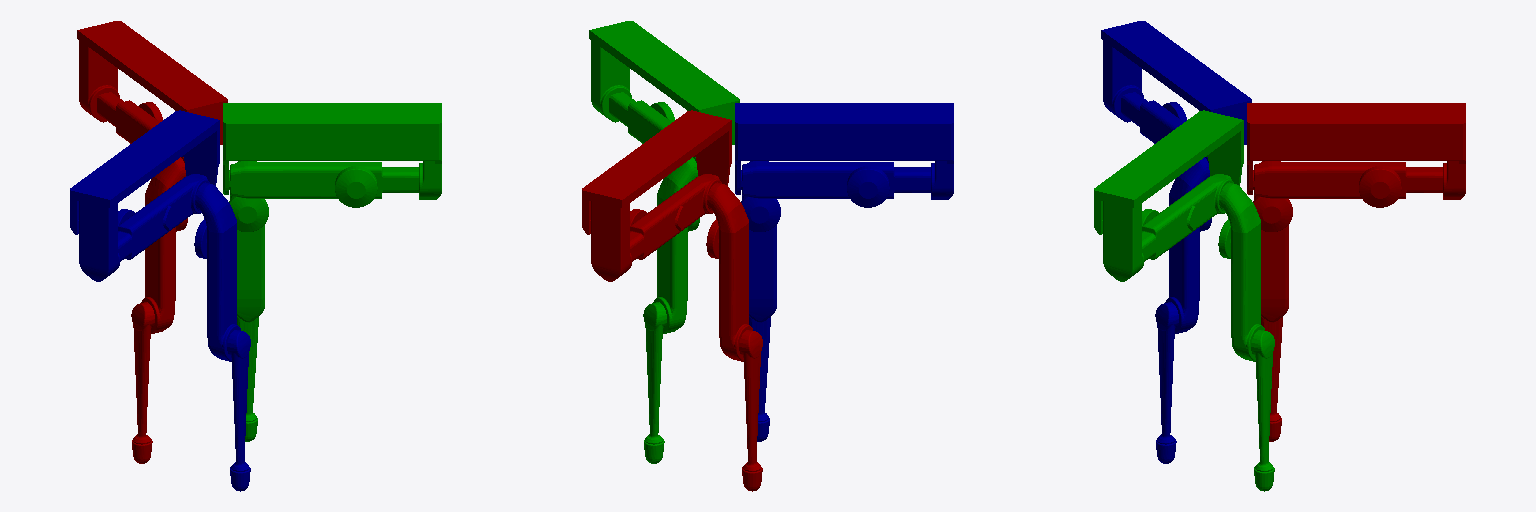
robot.urdf — trifingeredu:
<?xml version="1.0" ?>
<!-- =================================================================================== -->
<!-- |    This document was autogenerated by xacro from robot_properties_fingers/xacro/edu/trifingeredu.urdf.xacro | -->
<!-- |    EDITING THIS FILE BY HAND IS NOT RECOMMENDED                                 | -->
<!-- =================================================================================== -->
<robot name="trifingeredu">
  <!--
    Frames are defined such that they all align with the base frame when all
    joints are at position zero.

    In zero-configuration the origins of all joints are in one line.
    -->
  <!-- Define the global base_link and place all other objects relative to it. -->
  <link name="base_link">
    <inertial>
      <origin rpy="0 0 0" xyz="0 0 0"/>
      <mass value="1"/>
      <inertia ixx="4.166666666666667e-06" ixy="0" ixz="0" iyy="4.166666666666667e-06" iyz="0" izz="4.166666666666667e-06"/>
    </inertial>
  </link>
  <!-- Define the upper holder -->
  <link name="trifinger_base_link">
    <inertial>
      <origin rpy="0 0 0" xyz="0 0 0"/>
      <mass value="1"/>
      <inertia ixx="4.166666666666667e-06" ixy="0" ixz="0" iyy="4.166666666666667e-06" iyz="0" izz="4.166666666666667e-06"/>
    </inertial>
  </link>
  <joint name="base_to_trifinger_base_joint" type="fixed">
    <parent link="base_link"/>
    <child link="trifinger_base_link"/>
    <origin rpy="0 0 -1.5707963267948966" xyz="0 0 0.282"/>
  </joint>
  <material name="fingeredu_0_material">
    <color rgba="0.6 0.0 0.0 1.0"/>
  </material>
  <material name="fingeredu_120_material">
    <color rgba="0.0 0.6 0.0 1.0"/>
  </material>
  <material name="fingeredu_240_material">
    <color rgba="0.0 0.0 0.6 1.0"/>
  </material>
  <!--
        Fixed links for the finger base (parts where the upper link is mounted).
        -->
  <link name="finger_base_link_0">
    <visual>
      <origin rpy="0 0 0" xyz="-0.17995 0 0"/>
      <geometry>
        <mesh filename="meshes/base_back.obj" scale="1 1 1"/>
      </geometry>
      <material name="fingeredu_0_material"/>
    </visual>
    <collision>
      <origin rpy="0 0 0" xyz="-0.17995 0 0"/>
      <geometry>
        <mesh filename="meshes/base_back.obj" scale="1 1 1"/>
      </geometry>
    </collision>
    <visual>
      <origin rpy="0 0 0" xyz="0.025500000000000002 0 0"/>
      <geometry>
        <mesh filename="meshes/base_front.obj" scale="1 1 1"/>
      </geometry>
      <material name="fingeredu_0_material"/>
    </visual>
    <collision>
      <origin rpy="0 0 0" xyz="0.025500000000000002 0 0"/>
      <geometry>
        <mesh filename="meshes/base_front.obj" scale="1 1 1"/>
      </geometry>
    </collision>
    <visual>
      <origin rpy="0 0 0" xyz="0.025500000000000002 0.02 0.08"/>
      <geometry>
        <mesh filename="meshes/base_side_left.obj" scale="1 1 1"/>
      </geometry>
      <material name="fingeredu_0_material"/>
    </visual>
    <collision>
      <origin rpy="0 0 0" xyz="0.025500000000000002 0.02 0.08"/>
      <geometry>
        <mesh filename="meshes/base_side_left.obj" scale="1 1 1"/>
      </geometry>
    </collision>
    <!-- Disable this part.  It is not very relevant for collisions but
                 would cause trouble in pybullet due to its concavity.
            <xacro:add_geometry
                rpy="0 0 0"
                xyz="${offset_x_base_to_front} -0.02 ${offset_z_base_to_top}"
                mesh_file="${mesh_dir}/base_side_right.obj"
                material="${material}" />
            -->
    <visual>
      <origin rpy="0 0 0" xyz="0.025500000000000002 0 0.08"/>
      <geometry>
        <mesh filename="meshes/base_top.obj" scale="1 1 1"/>
      </geometry>
      <material name="fingeredu_0_material"/>
    </visual>
    <collision>
      <origin rpy="0 0 0" xyz="0.025500000000000002 0 0.08"/>
      <geometry>
        <mesh filename="meshes/base_top.obj" scale="1 1 1"/>
      </geometry>
    </collision>
    <inertial>
      <origin rpy="0 0 0" xyz="-0.1 0 0.4"/>
      <mass value="1"/>
      <inertia ixx="0.060833333333333336" ixy="0" ixz="0" iyy="0.05666666666666668" iyz="0" izz="0.010833333333333334"/>
    </inertial>
  </link>
  <!-- The movable links (upper, middle and lower) of the finger. -->
  <!-- FIXME inertias are not correct! -->
  <link name="finger_upper_link_0">
    <visual>
      <origin rpy="0 0 0" xyz="0.0195 0 0"/>
      <geometry>
        <mesh filename="meshes/upper_link.obj" scale="1 1 1"/>
      </geometry>
      <material name="fingeredu_0_material"/>
    </visual>
    <collision>
      <origin rpy="0 0 0" xyz="0.0195 0 0"/>
      <geometry>
        <mesh filename="meshes/upper_link.obj" scale="1 1 1"/>
      </geometry>
    </collision>
    <inertial>
      <!-- Note: This uses the values from the middle link, assuming
                     that it is similar enough. -->
      <!-- CoM is only estimated based -->
      <origin rpy="0 0 0" xyz="-0.079 0 0"/>
      <mass value="0.157"/>
      <inertia ixx="0.00003" ixy="0.00005" ixz="0.00000" iyy="0.00041" iyz="0.00000" izz="0.00041"/>
    </inertial>
  </link>
  <link name="finger_middle_link_0">
    <visual>
      <origin rpy="0 0 0" xyz="0 0 0"/>
      <geometry>
        <mesh filename="meshes/middle_link.obj" scale="1 1 1"/>
      </geometry>
      <material name="fingeredu_0_material"/>
    </visual>
    <collision>
      <origin rpy="0 0 0" xyz="0 0 0"/>
      <geometry>
        <mesh filename="meshes/middle_link.obj" scale="1 1 1"/>
      </geometry>
    </collision>
    <inertial>
      <origin rpy="0 0 0" xyz="0 -0.019 -0.079"/>
      <mass value="0.16"/>
      <inertia ixx="0.00041" ixy="0.00000" ixz="0.00000" iyy="0.00041" iyz="0.00005" izz="0.00003"/>
    </inertial>
  </link>
  <link name="finger_lower_link_0">
    <visual>
      <origin rpy="0 0 0" xyz="0 0 0"/>
      <geometry>
        <mesh filename="meshes/lower_link.obj" scale="1 1 1"/>
      </geometry>
      <material name="fingeredu_0_material"/>
    </visual>
    <collision>
      <origin rpy="0 0 0" xyz="0 0 0"/>
      <geometry>
        <mesh filename="meshes/lower_link.obj" scale="1 1 1"/>
      </geometry>
    </collision>
    <!-- TODO: these are the interial values from the Solo lower leg
                 link which is similar but not exactly the same to the FingerEdu
                 lower link. -->
    <inertial>
      <origin rpy="0 0 0" xyz="0 -0.009 -0.089"/>
      <mass value="0.035"/>
      <inertia ixx="0.00012" ixy="0.00000" ixz="0.00000" iyy="0.00012" iyz="0.00000" izz="0.00000"/>
    </inertial>
  </link>
  <!-- fixed link for finger tip -->
  <link name="finger_tip_link_0">
    <inertial>
      <origin rpy="0 0 0" xyz="0 0 0"/>
      <mass value="0.01"/>
      <inertia ixx="1.6666666666666668e-07" ixy="0" ixz="0" iyy="1.6666666666666668e-07" iyz="0" izz="1.6666666666666668e-07"/>
    </inertial>
  </link>
  <joint name="finger_lower_to_tip_joint_0" type="fixed">
    <parent link="finger_lower_link_0"/>
    <child link="finger_tip_link_0"/>
    <origin xyz="0 -0.008 -0.16"/>
  </joint>
  <!-- kinematics -->
  <joint name="finger_base_to_upper_joint_0" type="revolute">
    <parent link="finger_base_link_0"/>
    <child link="finger_upper_link_0"/>
    <limit effort="0.36" lower="-1.5707963267948966" upper="1.5707963267948966" velocity="20"/>
    <axis xyz="-1 0 0"/>
    <origin rpy="0 0 0" xyz="0 0 0"/>
  </joint>
  <joint name="finger_upper_to_middle_joint_0" type="revolute">
    <parent link="finger_upper_link_0"/>
    <child link="finger_middle_link_0"/>
    <limit effort="0.36" lower="-1.5707963267948966" upper="1.5707963267948966" velocity="20"/>
    <axis xyz="0 1 0"/>
    <origin rpy="0 0 0" xyz="0 -0.014 0"/>
  </joint>
  <joint name="finger_middle_to_lower_joint_0" type="revolute">
    <parent link="finger_middle_link_0"/>
    <child link="finger_lower_link_0"/>
    <limit effort="0.36" lower="-3.141592653589793" upper="3.141592653589793" velocity="20"/>
    <axis xyz="0 1 0"/>
    <origin rpy="0 0 0" xyz="0 -0.03745 -0.16"/>
  </joint>
  <!--
        Fixed links for the finger base (parts where the upper link is mounted).
        -->
  <link name="finger_base_link_120">
    <visual>
      <origin rpy="0 0 0" xyz="-0.17995 0 0"/>
      <geometry>
        <mesh filename="meshes/base_back.obj" scale="1 1 1"/>
      </geometry>
      <material name="fingeredu_120_material"/>
    </visual>
    <collision>
      <origin rpy="0 0 0" xyz="-0.17995 0 0"/>
      <geometry>
        <mesh filename="meshes/base_back.obj" scale="1 1 1"/>
      </geometry>
    </collision>
    <visual>
      <origin rpy="0 0 0" xyz="0.025500000000000002 0 0"/>
      <geometry>
        <mesh filename="meshes/base_front.obj" scale="1 1 1"/>
      </geometry>
      <material name="fingeredu_120_material"/>
    </visual>
    <collision>
      <origin rpy="0 0 0" xyz="0.025500000000000002 0 0"/>
      <geometry>
        <mesh filename="meshes/base_front.obj" scale="1 1 1"/>
      </geometry>
    </collision>
    <visual>
      <origin rpy="0 0 0" xyz="0.025500000000000002 0.02 0.08"/>
      <geometry>
        <mesh filename="meshes/base_side_left.obj" scale="1 1 1"/>
      </geometry>
      <material name="fingeredu_120_material"/>
    </visual>
    <collision>
      <origin rpy="0 0 0" xyz="0.025500000000000002 0.02 0.08"/>
      <geometry>
        <mesh filename="meshes/base_side_left.obj" scale="1 1 1"/>
      </geometry>
    </collision>
    <!-- Disable this part.  It is not very relevant for collisions but
                 would cause trouble in pybullet due to its concavity.
            <xacro:add_geometry
                rpy="0 0 0"
                xyz="${offset_x_base_to_front} -0.02 ${offset_z_base_to_top}"
                mesh_file="${mesh_dir}/base_side_right.obj"
                material="${material}" />
            -->
    <visual>
      <origin rpy="0 0 0" xyz="0.025500000000000002 0 0.08"/>
      <geometry>
        <mesh filename="meshes/base_top.obj" scale="1 1 1"/>
      </geometry>
      <material name="fingeredu_120_material"/>
    </visual>
    <collision>
      <origin rpy="0 0 0" xyz="0.025500000000000002 0 0.08"/>
      <geometry>
        <mesh filename="meshes/base_top.obj" scale="1 1 1"/>
      </geometry>
    </collision>
    <inertial>
      <origin rpy="0 0 0" xyz="-0.1 0 0.4"/>
      <mass value="1"/>
      <inertia ixx="0.060833333333333336" ixy="0" ixz="0" iyy="0.05666666666666668" iyz="0" izz="0.010833333333333334"/>
    </inertial>
  </link>
  <!-- The movable links (upper, middle and lower) of the finger. -->
  <!-- FIXME inertias are not correct! -->
  <link name="finger_upper_link_120">
    <visual>
      <origin rpy="0 0 0" xyz="0.0195 0 0"/>
      <geometry>
        <mesh filename="meshes/upper_link.obj" scale="1 1 1"/>
      </geometry>
      <material name="fingeredu_120_material"/>
    </visual>
    <collision>
      <origin rpy="0 0 0" xyz="0.0195 0 0"/>
      <geometry>
        <mesh filename="meshes/upper_link.obj" scale="1 1 1"/>
      </geometry>
    </collision>
    <inertial>
      <!-- Note: This uses the values from the middle link, assuming
                     that it is similar enough. -->
      <!-- CoM is only estimated based -->
      <origin rpy="0 0 0" xyz="-0.079 0 0"/>
      <mass value="0.157"/>
      <inertia ixx="0.00003" ixy="0.00005" ixz="0.00000" iyy="0.00041" iyz="0.00000" izz="0.00041"/>
    </inertial>
  </link>
  <link name="finger_middle_link_120">
    <visual>
      <origin rpy="0 0 0" xyz="0 0 0"/>
      <geometry>
        <mesh filename="meshes/middle_link.obj" scale="1 1 1"/>
      </geometry>
      <material name="fingeredu_120_material"/>
    </visual>
    <collision>
      <origin rpy="0 0 0" xyz="0 0 0"/>
      <geometry>
        <mesh filename="meshes/middle_link.obj" scale="1 1 1"/>
      </geometry>
    </collision>
    <inertial>
      <origin rpy="0 0 0" xyz="0 -0.019 -0.079"/>
      <mass value="0.16"/>
      <inertia ixx="0.00041" ixy="0.00000" ixz="0.00000" iyy="0.00041" iyz="0.00005" izz="0.00003"/>
    </inertial>
  </link>
  <link name="finger_lower_link_120">
    <visual>
      <origin rpy="0 0 0" xyz="0 0 0"/>
      <geometry>
        <mesh filename="meshes/lower_link.obj" scale="1 1 1"/>
      </geometry>
      <material name="fingeredu_120_material"/>
    </visual>
    <collision>
      <origin rpy="0 0 0" xyz="0 0 0"/>
      <geometry>
        <mesh filename="meshes/lower_link.obj" scale="1 1 1"/>
      </geometry>
    </collision>
    <!-- TODO: these are the interial values from the Solo lower leg
                 link which is similar but not exactly the same to the FingerEdu
                 lower link. -->
    <inertial>
      <origin rpy="0 0 0" xyz="0 -0.009 -0.089"/>
      <mass value="0.035"/>
      <inertia ixx="0.00012" ixy="0.00000" ixz="0.00000" iyy="0.00012" iyz="0.00000" izz="0.00000"/>
    </inertial>
  </link>
  <!-- fixed link for finger tip -->
  <link name="finger_tip_link_120">
    <inertial>
      <origin rpy="0 0 0" xyz="0 0 0"/>
      <mass value="0.01"/>
      <inertia ixx="1.6666666666666668e-07" ixy="0" ixz="0" iyy="1.6666666666666668e-07" iyz="0" izz="1.6666666666666668e-07"/>
    </inertial>
  </link>
  <joint name="finger_lower_to_tip_joint_120" type="fixed">
    <parent link="finger_lower_link_120"/>
    <child link="finger_tip_link_120"/>
    <origin xyz="0 -0.008 -0.16"/>
  </joint>
  <!-- kinematics -->
  <joint name="finger_base_to_upper_joint_120" type="revolute">
    <parent link="finger_base_link_120"/>
    <child link="finger_upper_link_120"/>
    <limit effort="0.36" lower="-1.5707963267948966" upper="1.5707963267948966" velocity="20"/>
    <axis xyz="-1 0 0"/>
    <origin rpy="0 0 0" xyz="0 0 0"/>
  </joint>
  <joint name="finger_upper_to_middle_joint_120" type="revolute">
    <parent link="finger_upper_link_120"/>
    <child link="finger_middle_link_120"/>
    <limit effort="0.36" lower="-1.5707963267948966" upper="1.5707963267948966" velocity="20"/>
    <axis xyz="0 1 0"/>
    <origin rpy="0 0 0" xyz="0 -0.014 0"/>
  </joint>
  <joint name="finger_middle_to_lower_joint_120" type="revolute">
    <parent link="finger_middle_link_120"/>
    <child link="finger_lower_link_120"/>
    <limit effort="0.36" lower="-3.141592653589793" upper="3.141592653589793" velocity="20"/>
    <axis xyz="0 1 0"/>
    <origin rpy="0 0 0" xyz="0 -0.03745 -0.16"/>
  </joint>
  <!--
        Fixed links for the finger base (parts where the upper link is mounted).
        -->
  <link name="finger_base_link_240">
    <visual>
      <origin rpy="0 0 0" xyz="-0.17995 0 0"/>
      <geometry>
        <mesh filename="meshes/base_back.obj" scale="1 1 1"/>
      </geometry>
      <material name="fingeredu_240_material"/>
    </visual>
    <collision>
      <origin rpy="0 0 0" xyz="-0.17995 0 0"/>
      <geometry>
        <mesh filename="meshes/base_back.obj" scale="1 1 1"/>
      </geometry>
    </collision>
    <visual>
      <origin rpy="0 0 0" xyz="0.025500000000000002 0 0"/>
      <geometry>
        <mesh filename="meshes/base_front.obj" scale="1 1 1"/>
      </geometry>
      <material name="fingeredu_240_material"/>
    </visual>
    <collision>
      <origin rpy="0 0 0" xyz="0.025500000000000002 0 0"/>
      <geometry>
        <mesh filename="meshes/base_front.obj" scale="1 1 1"/>
      </geometry>
    </collision>
    <visual>
      <origin rpy="0 0 0" xyz="0.025500000000000002 0.02 0.08"/>
      <geometry>
        <mesh filename="meshes/base_side_left.obj" scale="1 1 1"/>
      </geometry>
      <material name="fingeredu_240_material"/>
    </visual>
    <collision>
      <origin rpy="0 0 0" xyz="0.025500000000000002 0.02 0.08"/>
      <geometry>
        <mesh filename="meshes/base_side_left.obj" scale="1 1 1"/>
      </geometry>
    </collision>
    <!-- Disable this part.  It is not very relevant for collisions but
                 would cause trouble in pybullet due to its concavity.
            <xacro:add_geometry
                rpy="0 0 0"
                xyz="${offset_x_base_to_front} -0.02 ${offset_z_base_to_top}"
                mesh_file="${mesh_dir}/base_side_right.obj"
                material="${material}" />
            -->
    <visual>
      <origin rpy="0 0 0" xyz="0.025500000000000002 0 0.08"/>
      <geometry>
        <mesh filename="meshes/base_top.obj" scale="1 1 1"/>
      </geometry>
      <material name="fingeredu_240_material"/>
    </visual>
    <collision>
      <origin rpy="0 0 0" xyz="0.025500000000000002 0 0.08"/>
      <geometry>
        <mesh filename="meshes/base_top.obj" scale="1 1 1"/>
      </geometry>
    </collision>
    <inertial>
      <origin rpy="0 0 0" xyz="-0.1 0 0.4"/>
      <mass value="1"/>
      <inertia ixx="0.060833333333333336" ixy="0" ixz="0" iyy="0.05666666666666668" iyz="0" izz="0.010833333333333334"/>
    </inertial>
  </link>
  <!-- The movable links (upper, middle and lower) of the finger. -->
  <!-- FIXME inertias are not correct! -->
  <link name="finger_upper_link_240">
    <visual>
      <origin rpy="0 0 0" xyz="0.0195 0 0"/>
      <geometry>
        <mesh filename="meshes/upper_link.obj" scale="1 1 1"/>
      </geometry>
      <material name="fingeredu_240_material"/>
    </visual>
    <collision>
      <origin rpy="0 0 0" xyz="0.0195 0 0"/>
      <geometry>
        <mesh filename="meshes/upper_link.obj" scale="1 1 1"/>
      </geometry>
    </collision>
    <inertial>
      <!-- Note: This uses the values from the middle link, assuming
                     that it is similar enough. -->
      <!-- CoM is only estimated based -->
      <origin rpy="0 0 0" xyz="-0.079 0 0"/>
      <mass value="0.157"/>
      <inertia ixx="0.00003" ixy="0.00005" ixz="0.00000" iyy="0.00041" iyz="0.00000" izz="0.00041"/>
    </inertial>
  </link>
  <link name="finger_middle_link_240">
    <visual>
      <origin rpy="0 0 0" xyz="0 0 0"/>
      <geometry>
        <mesh filename="meshes/middle_link.obj" scale="1 1 1"/>
      </geometry>
      <material name="fingeredu_240_material"/>
    </visual>
    <collision>
      <origin rpy="0 0 0" xyz="0 0 0"/>
      <geometry>
        <mesh filename="meshes/middle_link.obj" scale="1 1 1"/>
      </geometry>
    </collision>
    <inertial>
      <origin rpy="0 0 0" xyz="0 -0.019 -0.079"/>
      <mass value="0.16"/>
      <inertia ixx="0.00041" ixy="0.00000" ixz="0.00000" iyy="0.00041" iyz="0.00005" izz="0.00003"/>
    </inertial>
  </link>
  <link name="finger_lower_link_240">
    <visual>
      <origin rpy="0 0 0" xyz="0 0 0"/>
      <geometry>
        <mesh filename="meshes/lower_link.obj" scale="1 1 1"/>
      </geometry>
      <material name="fingeredu_240_material"/>
    </visual>
    <collision>
      <origin rpy="0 0 0" xyz="0 0 0"/>
      <geometry>
        <mesh filename="meshes/lower_link.obj" scale="1 1 1"/>
      </geometry>
    </collision>
    <!-- TODO: these are the interial values from the Solo lower leg
                 link which is similar but not exactly the same to the FingerEdu
                 lower link. -->
    <inertial>
      <origin rpy="0 0 0" xyz="0 -0.009 -0.089"/>
      <mass value="0.035"/>
      <inertia ixx="0.00012" ixy="0.00000" ixz="0.00000" iyy="0.00012" iyz="0.00000" izz="0.00000"/>
    </inertial>
  </link>
  <!-- fixed link for finger tip -->
  <link name="finger_tip_link_240">
    <inertial>
      <origin rpy="0 0 0" xyz="0 0 0"/>
      <mass value="0.01"/>
      <inertia ixx="1.6666666666666668e-07" ixy="0" ixz="0" iyy="1.6666666666666668e-07" iyz="0" izz="1.6666666666666668e-07"/>
    </inertial>
  </link>
  <joint name="finger_lower_to_tip_joint_240" type="fixed">
    <parent link="finger_lower_link_240"/>
    <child link="finger_tip_link_240"/>
    <origin xyz="0 -0.008 -0.16"/>
  </joint>
  <!-- kinematics -->
  <joint name="finger_base_to_upper_joint_240" type="revolute">
    <parent link="finger_base_link_240"/>
    <child link="finger_upper_link_240"/>
    <limit effort="0.36" lower="-1.5707963267948966" upper="1.5707963267948966" velocity="20"/>
    <axis xyz="-1 0 0"/>
    <origin rpy="0 0 0" xyz="0 0 0"/>
  </joint>
  <joint name="finger_upper_to_middle_joint_240" type="revolute">
    <parent link="finger_upper_link_240"/>
    <child link="finger_middle_link_240"/>
    <limit effort="0.36" lower="-1.5707963267948966" upper="1.5707963267948966" velocity="20"/>
    <axis xyz="0 1 0"/>
    <origin rpy="0 0 0" xyz="0 -0.014 0"/>
  </joint>
  <joint name="finger_middle_to_lower_joint_240" type="revolute">
    <parent link="finger_middle_link_240"/>
    <child link="finger_lower_link_240"/>
    <limit effort="0.36" lower="-3.141592653589793" upper="3.141592653589793" velocity="20"/>
    <axis xyz="0 1 0"/>
    <origin rpy="0 0 0" xyz="0 -0.03745 -0.16"/>
  </joint>
  <joint name="base_to_finger_0" type="fixed">
    <parent link="trifinger_base_link"/>
    <child link="finger_base_link_0"/>
    <origin rpy="0 0 0" xyz="-0.0395 0.0 0"/>
  </joint>
  <joint name="base_to_finger_120" type="fixed">
    <parent link="trifinger_base_link"/>
    <child link="finger_base_link_120"/>
    <origin rpy="0 0 -2.0943951023931953" xyz="0.01975 0.034208 0"/>
  </joint>
  <joint name="base_to_finger_240" type="fixed">
    <parent link="trifinger_base_link"/>
    <child link="finger_base_link_240"/>
    <origin rpy="0 0 -4.1887902047863905" xyz="0.01975 -0.034208 0"/>
  </joint>

  <transmission name="finger_base_to_upper_joint_0_trans" type="SimpleTransmission">
    <actuator name="finger_base_to_upper_joint_0_torque"/>
    <joint name="finger_base_to_upper_joint_0"/>
    <mechanicalReduction>1</mechanicalReduction>
  </transmission>
  <transmission name="finger_upper_to_middle_joint_0_trans" type="SimpleTransmission">
    <actuator name="finger_upper_to_middle_joint_0_torque"/>
    <joint name="finger_upper_to_middle_joint_0"/>
    <mechanicalReduction>1</mechanicalReduction>
  </transmission>
  <transmission name="finger_middle_to_lower_joint_0_trans" type="SimpleTransmission">
    <actuator name="finger_middle_to_lower_joint_0_torque"/>
    <joint name="finger_middle_to_lower_joint_0"/>
    <mechanicalReduction>1</mechanicalReduction>
  </transmission>

  <transmission name="finger_base_to_upper_joint_120_trans" type="SimpleTransmission">
    <actuator name="finger_base_to_upper_joint_120_torque"/>
    <joint name="finger_base_to_upper_joint_120"/>
    <mechanicalReduction>1</mechanicalReduction>
  </transmission>
  <transmission name="finger_upper_to_middle_joint_120_trans" type="SimpleTransmission">
    <actuator name="finger_upper_to_middle_joint_120_torque"/>
    <joint name="finger_upper_to_middle_joint_120"/>
    <mechanicalReduction>1</mechanicalReduction>
  </transmission>
  <transmission name="finger_middle_to_lower_joint_120_trans" type="SimpleTransmission">
    <actuator name="finger_middle_to_lower_joint_120_torque"/>
    <joint name="finger_middle_to_lower_joint_120"/>
    <mechanicalReduction>1</mechanicalReduction>
  </transmission>

  <transmission name="finger_base_to_upper_joint_240_trans" type="SimpleTransmission">
    <actuator name="finger_base_to_upper_joint_240_torque"/>
    <joint name="finger_base_to_upper_joint_240"/>
    <mechanicalReduction>1</mechanicalReduction>
  </transmission>
  <transmission name="finger_upper_to_middle_joint_240_trans" type="SimpleTransmission">
    <actuator name="finger_upper_to_middle_joint_240_torque"/>
    <joint name="finger_upper_to_middle_joint_240"/>
    <mechanicalReduction>1</mechanicalReduction>
  </transmission>
  <transmission name="finger_middle_to_lower_joint_240_trans" type="SimpleTransmission">
    <actuator name="finger_middle_to_lower_joint_240_torque"/>
    <joint name="finger_middle_to_lower_joint_240"/>
    <mechanicalReduction>1</mechanicalReduction>
  </transmission>
</robot>

--- What the picture shows (computed from the rendered views, not written in the file) ---
The picture shows the robot from 3 angles, left to right: view 1: azimuth 30°, elevation 25°; view 2: azimuth 150°, elevation 25°; view 3: azimuth 270°, elevation 25°; orthographic projection.
Model trifingeredu with 17 links and 16 joints (9 revolute, 7 fixed), rooted at base_link, posed all joints at 0.
Links seen in each view (by area): view 1: finger_base_link_120, finger_base_link_240, finger_base_link_0, finger_upper_link_120, finger_middle_link_240, finger_upper_link_240, finger_middle_link_120, finger_middle_link_0, finger_lower_link_240, finger_lower_link_0, finger_upper_link_0, finger_lower_link_120; view 2: finger_base_link_240, finger_base_link_0, finger_base_link_120, finger_upper_link_240, finger_middle_link_0, finger_upper_link_0, finger_middle_link_240, finger_middle_link_120, finger_lower_link_0, finger_lower_link_120, finger_upper_link_120, finger_lower_link_240; view 3: finger_base_link_0, finger_base_link_120, finger_base_link_240, finger_upper_link_0, finger_middle_link_120, finger_upper_link_120, finger_middle_link_0, finger_middle_link_240, finger_lower_link_120, finger_lower_link_240, finger_upper_link_240, finger_lower_link_0.
Link boxes in pixels (box(x1,y1,x2,y2)): finger_base_link_120: box(223, 103, 441, 199); finger_base_link_240: box(70, 110, 219, 281); finger_base_link_0: box(77, 21, 227, 144); finger_upper_link_120: box(229, 161, 418, 207); finger_middle_link_240: box(194, 182, 240, 361); finger_upper_link_240: box(118, 174, 209, 261); finger_middle_link_120: box(229, 196, 268, 322); finger_middle_link_0: box(141, 157, 187, 333); finger_lower_link_240: box(227, 330, 250, 491); finger_lower_link_0: box(131, 302, 154, 463); finger_upper_link_0: box(97, 92, 184, 162); finger_lower_link_120: box(237, 317, 258, 441); finger_base_link_240: box(735, 103, 953, 199); finger_base_link_0: box(582, 110, 731, 281); finger_base_link_120: box(589, 21, 739, 144); finger_upper_link_240: box(741, 161, 930, 207); finger_middle_link_0: box(706, 182, 752, 361); finger_upper_link_0: box(630, 174, 721, 261); finger_middle_link_240: box(741, 196, 780, 322); finger_middle_link_120: box(653, 157, 699, 333); finger_lower_link_0: box(739, 330, 762, 491); finger_lower_link_120: box(643, 302, 666, 463); finger_upper_link_120: box(609, 92, 696, 162); finger_lower_link_240: box(749, 317, 770, 441); finger_base_link_0: box(1247, 103, 1465, 199); finger_base_link_120: box(1094, 110, 1243, 281); finger_base_link_240: box(1101, 21, 1251, 144); finger_upper_link_0: box(1253, 161, 1442, 207); finger_middle_link_120: box(1218, 182, 1264, 361); finger_upper_link_120: box(1142, 174, 1233, 261); finger_middle_link_0: box(1253, 196, 1292, 322); finger_middle_link_240: box(1165, 157, 1211, 333); finger_lower_link_120: box(1251, 330, 1274, 491); finger_lower_link_240: box(1155, 302, 1178, 463); finger_upper_link_240: box(1121, 92, 1208, 162); finger_lower_link_0: box(1261, 317, 1282, 441).
Size in the robot's own frame: 0.4457 by 0.3905 by 0.4095 metres.
Meshes: 7 distinct files referenced, 21 mesh visuals loaded (7 OBJ).
